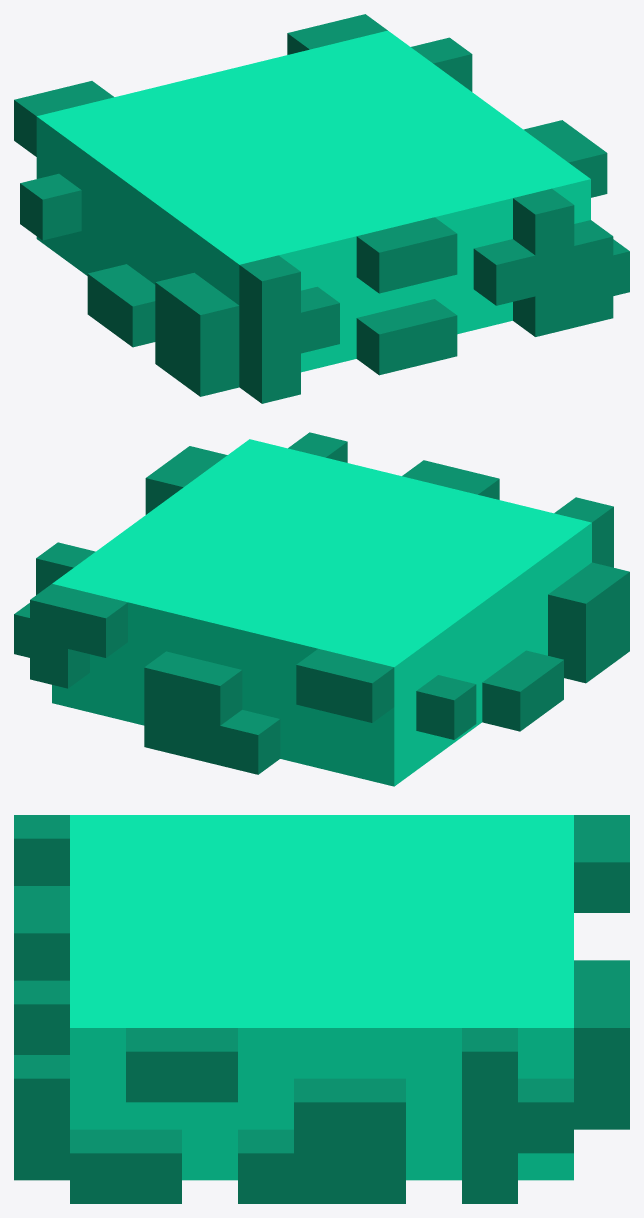
File: BottomBody.obj
The picture shows the model from 3 angles, top to bottom: view 1: azimuth 30°, elevation 25°; view 2: azimuth 150°, elevation 25°; view 3: azimuth 270°, elevation 25°; orthographic projection. The views are drawn at different scales.
Bounding box in the file's own units: 11 × 3 × 11.
Materials: 1 (1 with a texture image).
